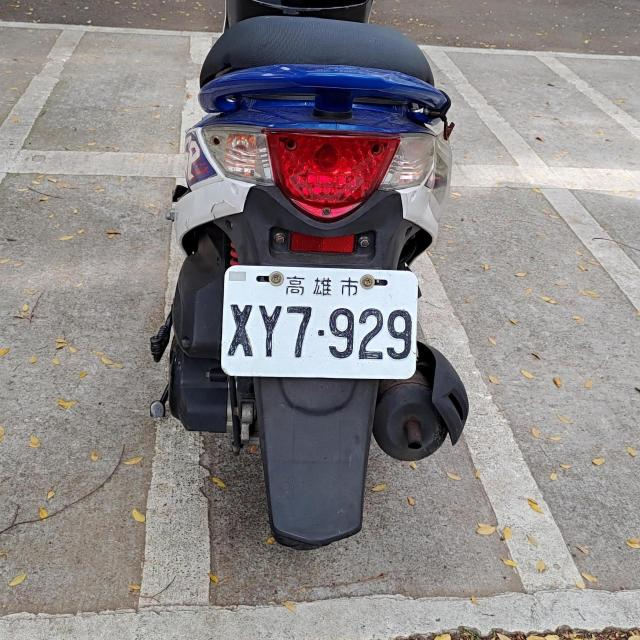W: (222, 265, 419, 378)
